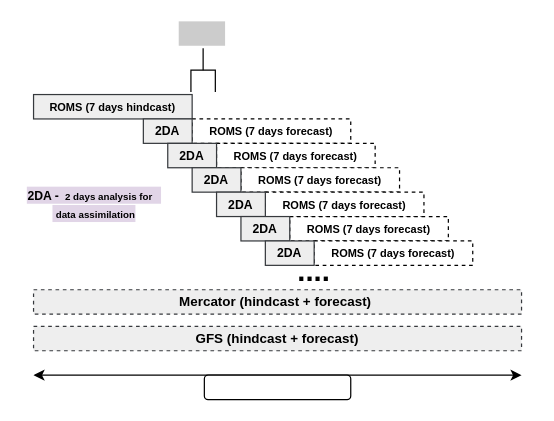
The diagram is 554 pixels wide and 421 high, and some of its shapes have lost their labels. Here are the shapes that lost their labels. From the top down, the centre of each, then its label:
At [201,33]: "1 day".
At [277,387]: "Nesting".
